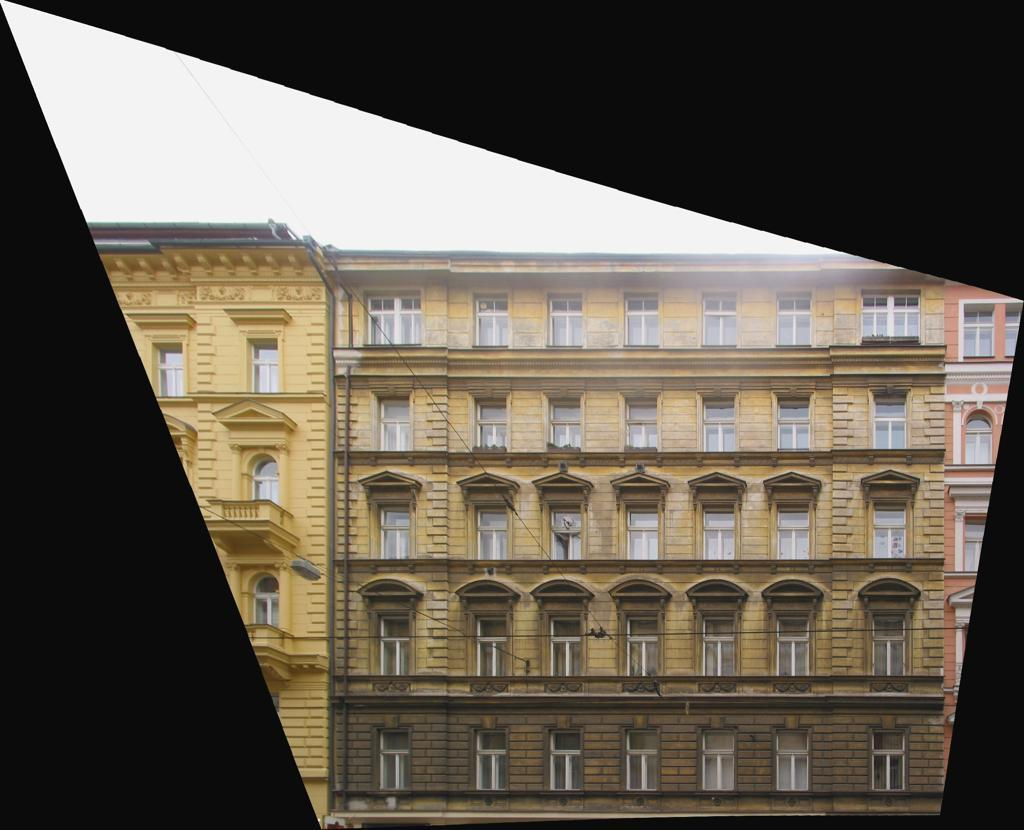window: (862, 290, 921, 345), (364, 291, 421, 344), (872, 729, 905, 791), (873, 614, 906, 676), (777, 614, 809, 677), (776, 730, 809, 790), (473, 730, 506, 790), (702, 730, 734, 791), (625, 729, 657, 790), (703, 615, 735, 676), (475, 615, 507, 676), (377, 614, 409, 675), (626, 614, 657, 676), (377, 728, 408, 790), (549, 615, 580, 677), (548, 730, 580, 790), (473, 293, 509, 346), (777, 503, 810, 560), (874, 502, 907, 558), (777, 291, 811, 345), (474, 505, 507, 560), (703, 504, 736, 559), (549, 504, 582, 559), (548, 293, 582, 346), (474, 397, 506, 453), (247, 338, 279, 394), (152, 343, 184, 399), (874, 395, 907, 449), (703, 397, 736, 451), (377, 397, 410, 451), (702, 293, 736, 345), (624, 293, 658, 345), (248, 572, 279, 629), (378, 504, 410, 559), (778, 397, 810, 452), (625, 397, 657, 452), (247, 454, 280, 507), (626, 505, 658, 559), (549, 398, 581, 452), (964, 303, 994, 356), (965, 410, 994, 464), (965, 516, 992, 572)
